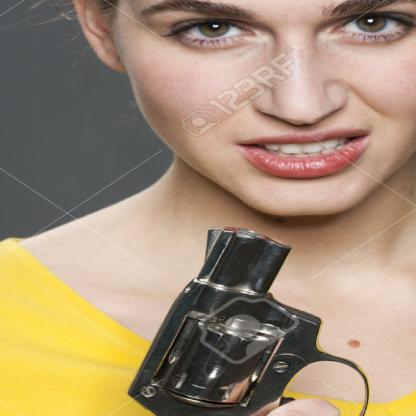gun: (112, 222, 415, 415)
